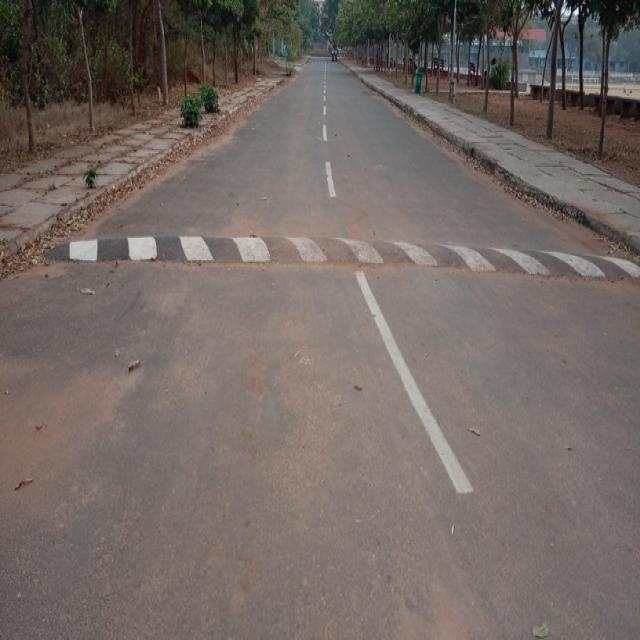Marked Bump: (87, 225, 615, 290)
